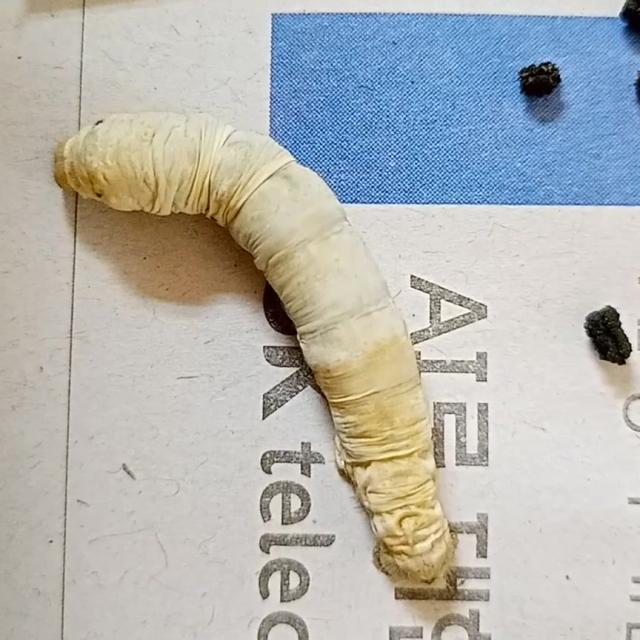Grasserie: (42, 100, 479, 594)
